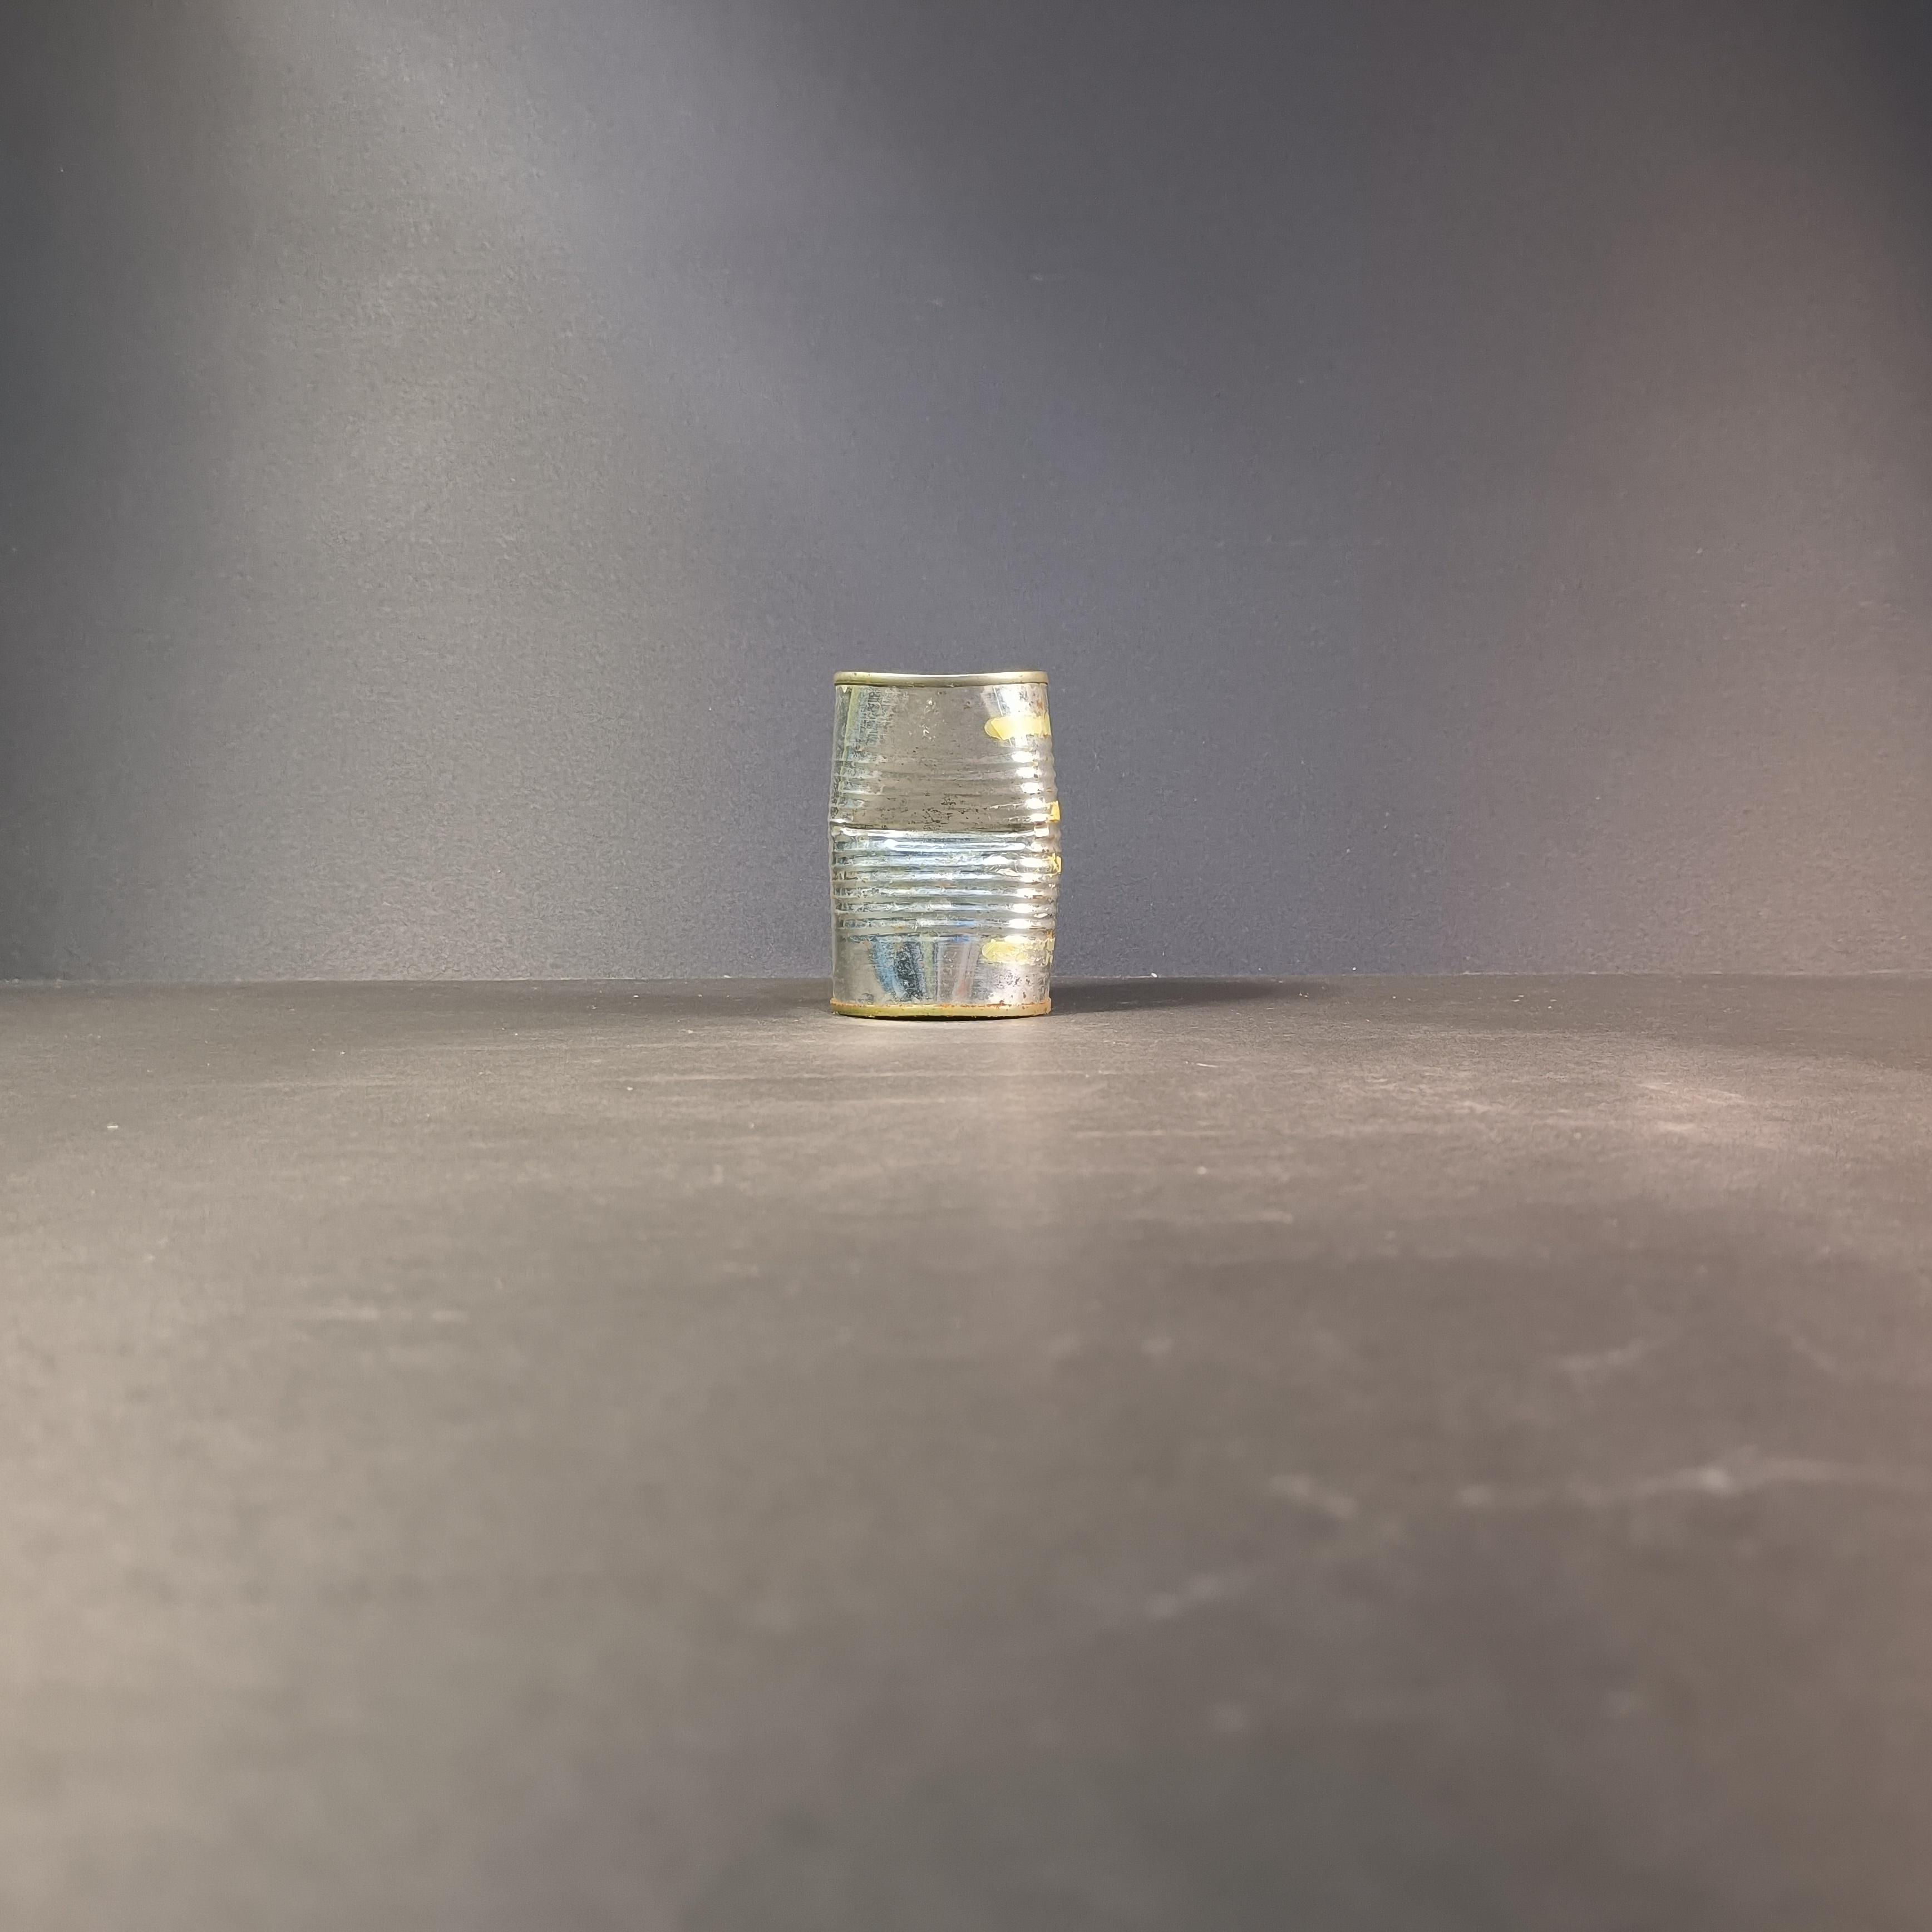Dented: (810, 651, 1082, 1038)
